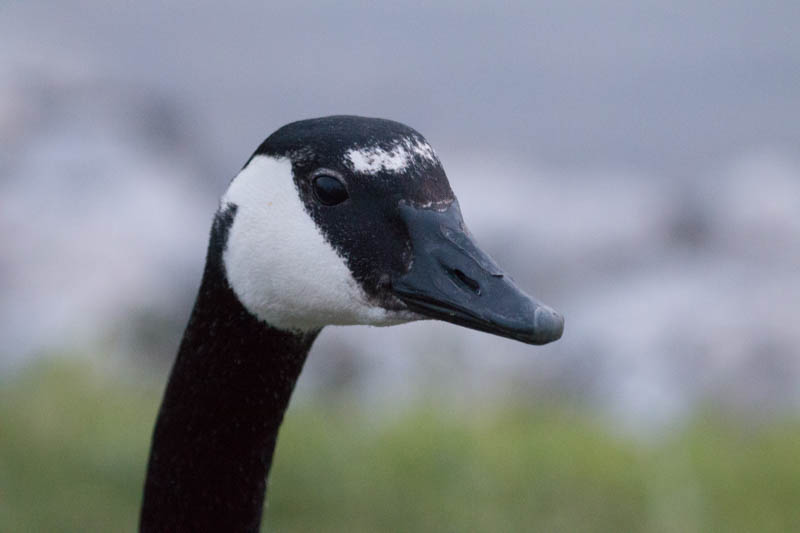goose-head: (209, 116, 565, 346)
